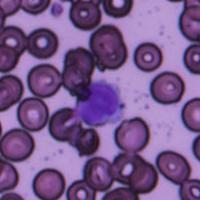M: (74, 78, 125, 127)
